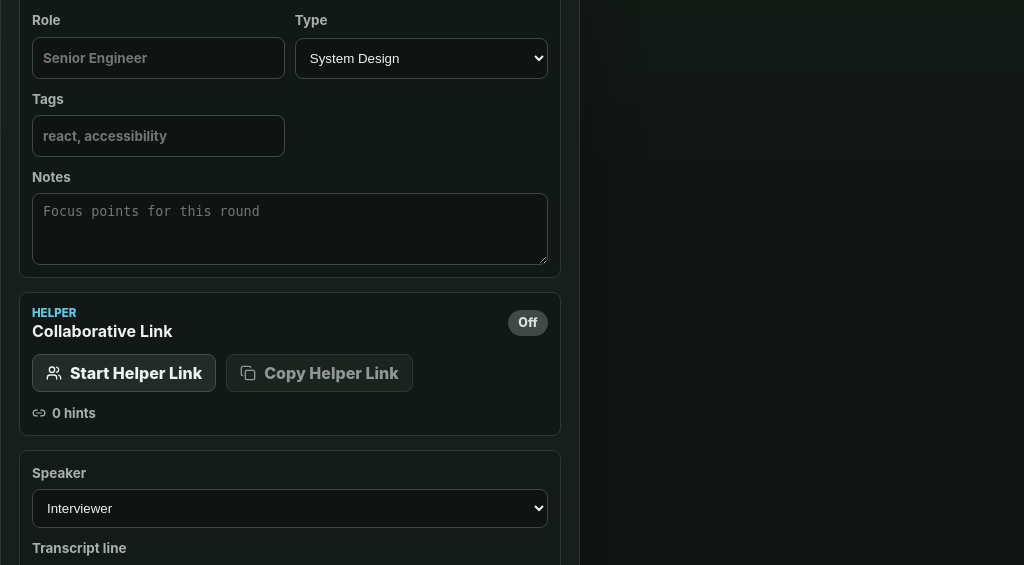
Scenario: Dashboard collaboration helper › copies, dismisses, and stops the helper link controls
(page scrolled)
What coordinates should you click on to do the following:
click the button "Start Helper Link"
I would click on:
 (124, 373)
Its box is left=32, top=354, right=216, bottom=392.
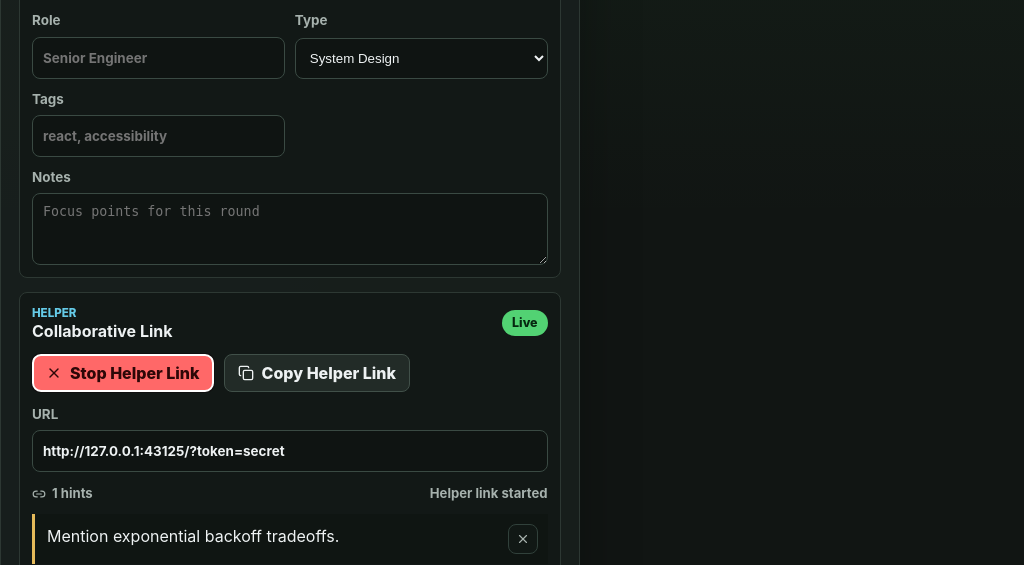
Result: the field named "Helper share link" holds "http://127.0.0.1:43125/?token=secret" at left=32, top=430, right=548, bottom=472
What coordinates should you click on to do the following:
click the button "Copy Helper Link"
I would click on:
 (317, 373)
Its box is left=224, top=354, right=410, bottom=392.
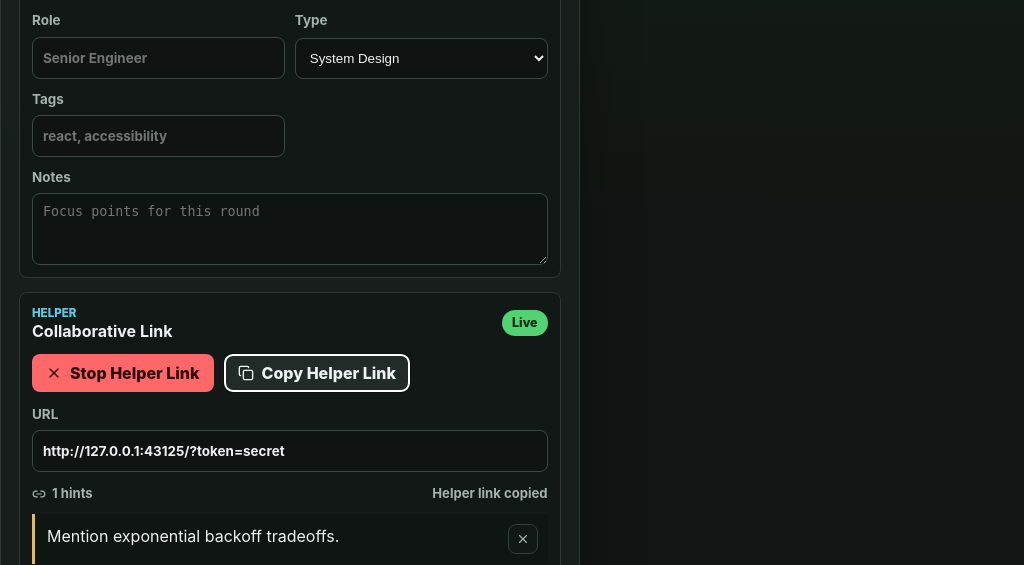
Result: the text "Mention exponential backoff tradeoffs." is shown at left=47, top=524, right=339, bottom=548
Result: the text "Helper link copied" is shown at left=432, top=484, right=548, bottom=504
What coordinates should you click on to do the following:
click the button named "Dismiss helper hint hint-1"
I would click on:
 (523, 539)
Its box is left=508, top=524, right=538, bottom=554.
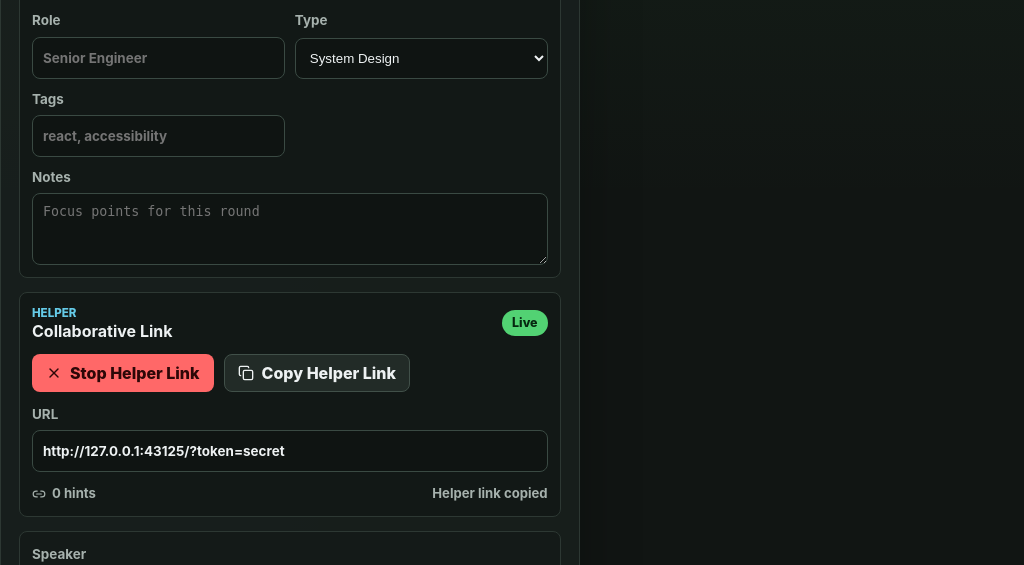
Result: the text "Mention exponential backoff tradeoffs." is gone
What coordinates should you click on to do the following:
click the button "Stop Helper Link"
I would click on:
 (123, 373)
Its box is left=32, top=354, right=214, bottom=392.
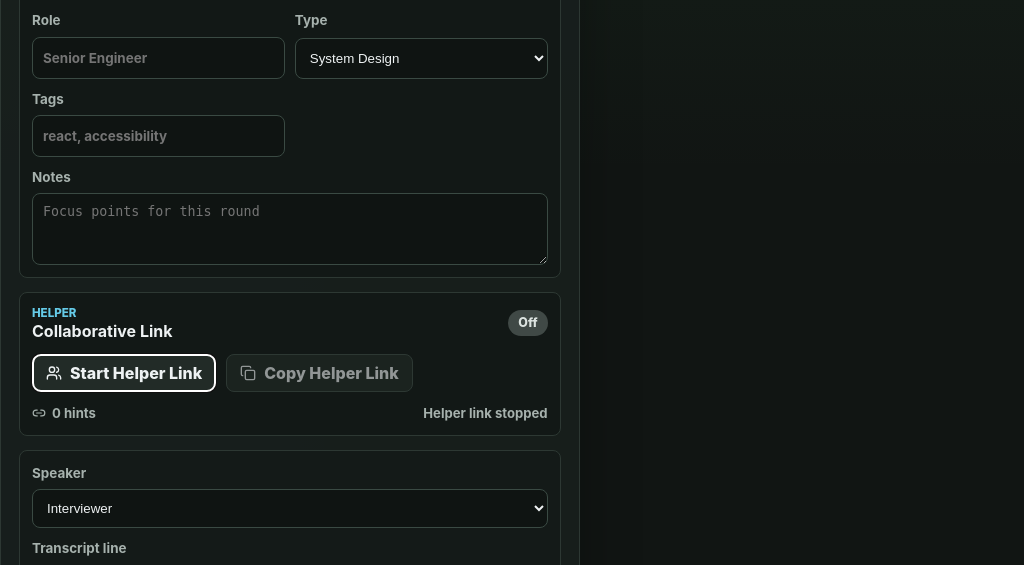
Result: the text "Helper link stopped" is shown at left=423, top=404, right=548, bottom=423
